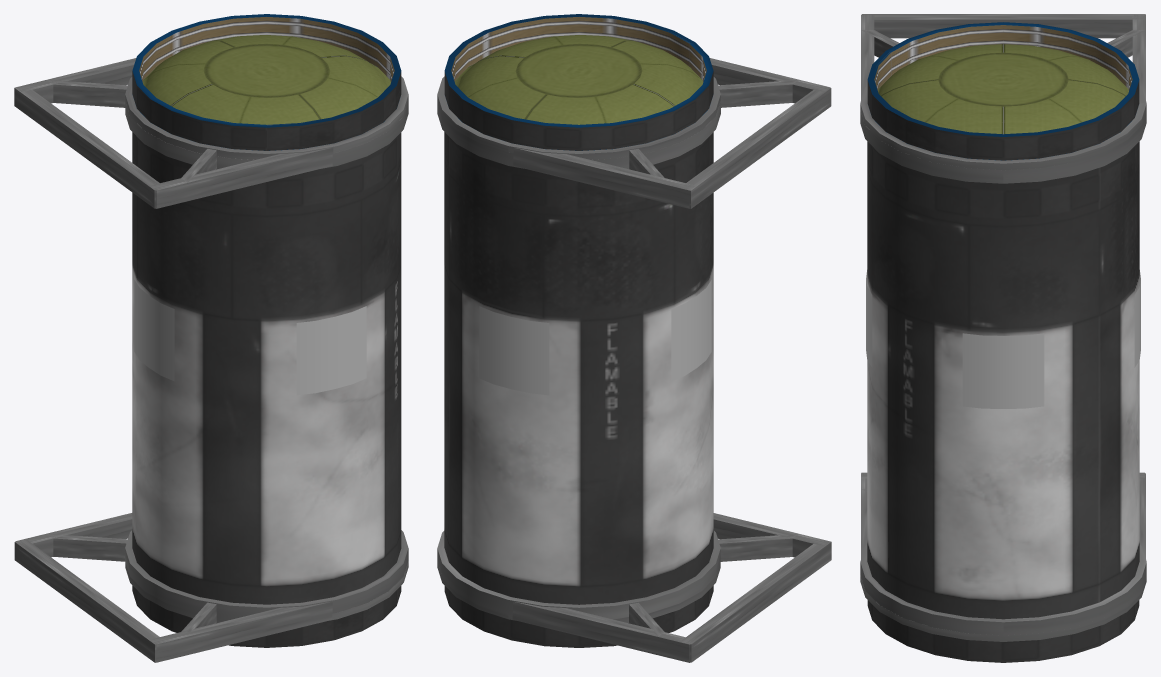
File: FLM-1800.FBX
3 views of the same model, side by side, from view 1: azimuth 30°, elevation 25°; view 2: azimuth 150°, elevation 25°; view 3: azimuth 270°, elevation 25° (orthographic).
Parts seen in each view (by area): view 1: TankBody, EndCap001, TankSleeve001, decalPanel001, Box007, Box006, MountingBracketBand002, Box011, Box003, TankSleeve002, BarrelBand003, decalPanel004 (+7 smaller); view 2: TankBody, EndCap001, TankSleeve001, decalPanel003, MountingBracketBand002, Box001, Box010, Box011, Box003, TankSleeve002, BarrelBand003, decalPanel004 (+6 smaller); view 3: TankBody, EndCap001, TankSleeve001, decalPanel002, TankSleeve002, MountingBracketBand002, Box003, MountingBracketBand001, BarrelBand003, BarrelBand002, Box006, Box001 (+6 smaller).
Boxes of the visible parts, x1,y1,x2,y2 form: TankBody: [132, 132, 401, 604]; EndCap001: [140, 35, 390, 150]; TankSleeve001: [132, 14, 401, 150]; decalPanel001: [296, 306, 366, 395]; Box007: [150, 601, 332, 662]; Box006: [150, 147, 333, 208]; MountingBracketBand002: [125, 530, 408, 618]; Box011: [14, 539, 159, 662]; Box003: [14, 86, 159, 208]; TankSleeve002: [132, 585, 401, 647]; BarrelBand003: [125, 76, 408, 159]; decalPanel004: [134, 280, 174, 381]; TankBody: [444, 132, 713, 604]; EndCap001: [455, 35, 707, 150]; TankSleeve001: [444, 14, 713, 150]; decalPanel003: [479, 306, 549, 395]; MountingBracketBand002: [437, 530, 720, 619]; Box001: [513, 147, 694, 208]; Box010: [512, 601, 690, 662]; Box011: [680, 540, 831, 662]; Box003: [680, 88, 831, 208]; TankSleeve002: [444, 586, 713, 647]; BarrelBand003: [437, 76, 720, 159]; decalPanel004: [671, 280, 711, 381]; TankBody: [867, 141, 1139, 619]; EndCap001: [875, 44, 1131, 160]; TankSleeve001: [867, 22, 1139, 160]; decalPanel002: [962, 333, 1044, 408]; TankSleeve002: [867, 600, 1139, 662]; MountingBracketBand002: [860, 544, 1146, 635]; Box003: [862, 14, 1145, 38]; MountingBracketBand001: [860, 110, 1146, 183]; BarrelBand003: [860, 85, 1146, 170]; BarrelBand002: [860, 575, 1146, 641]; Box006: [861, 14, 874, 99]; Box001: [1132, 14, 1145, 99].
Size of what is drawn, in the model's own units: 2.45 by 1.97 by 4.
